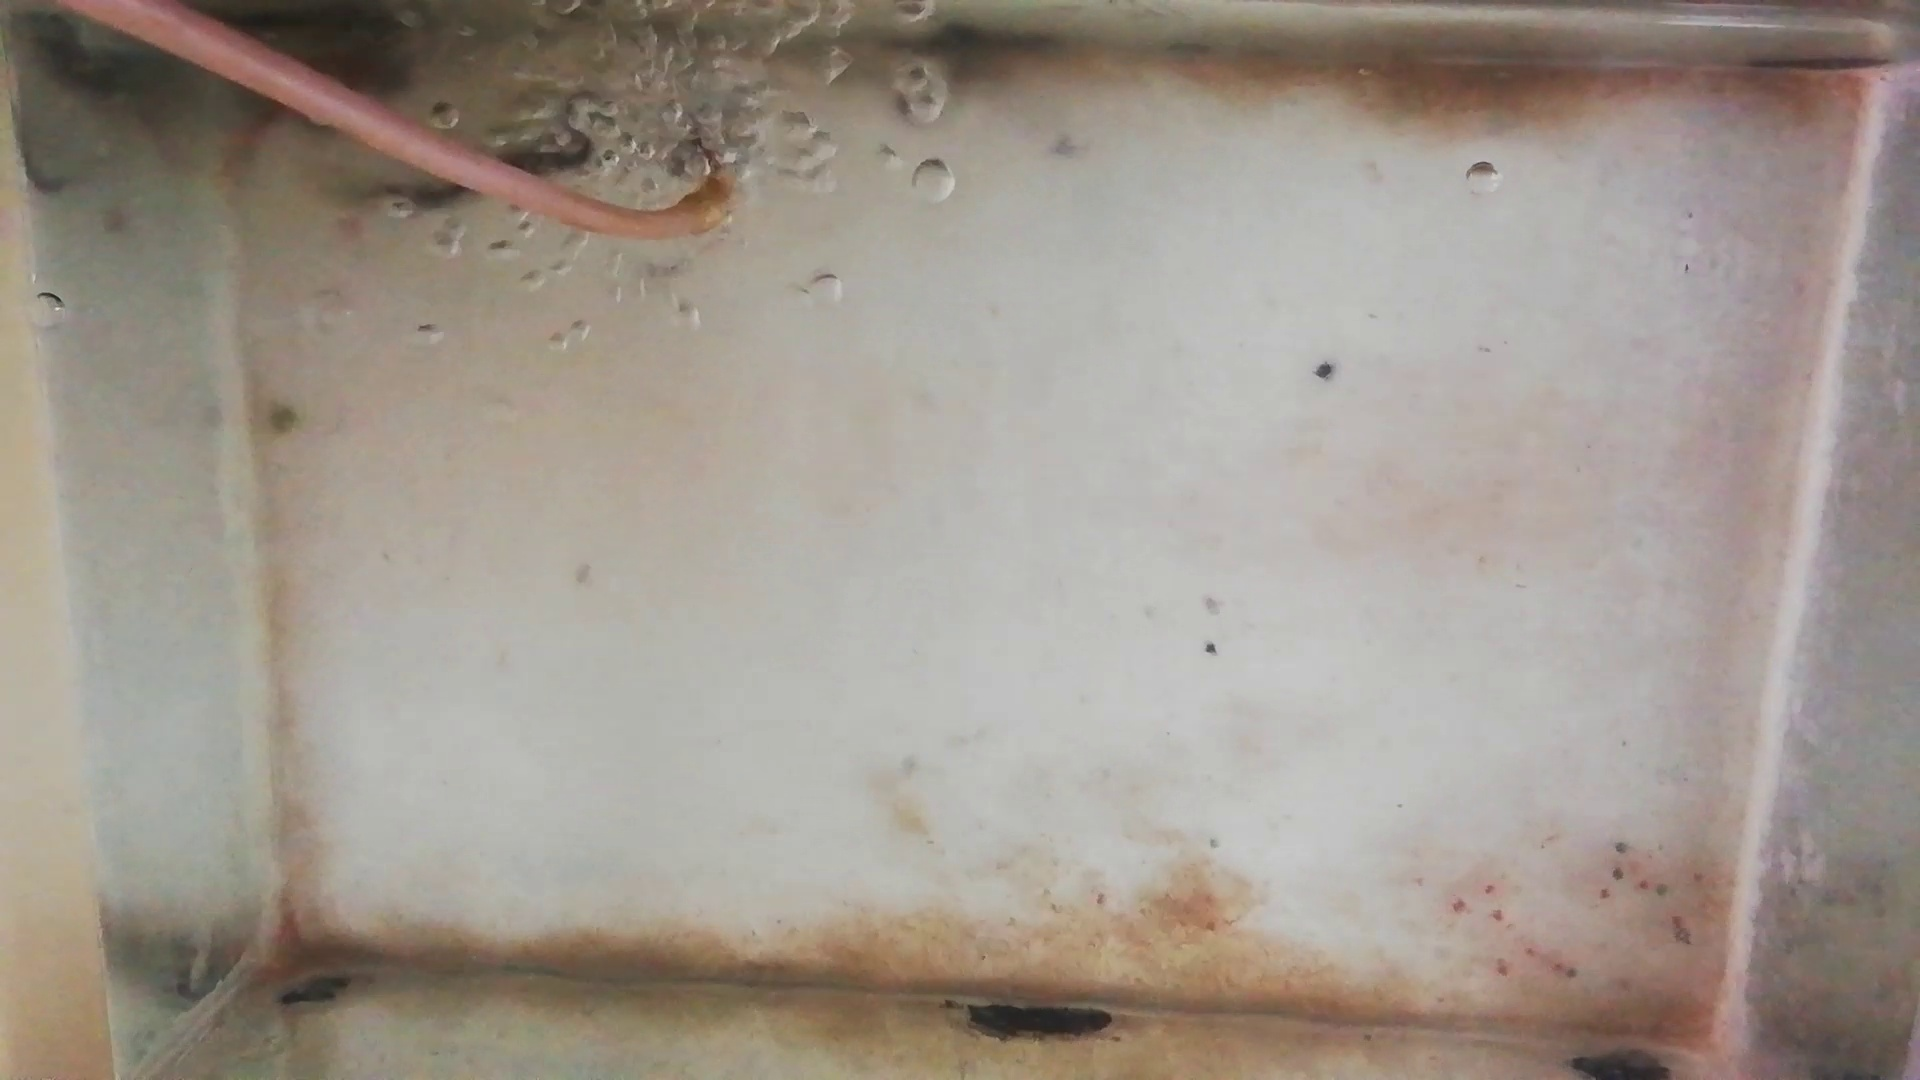fish: (360, 133, 595, 210), (237, 69, 415, 141)
